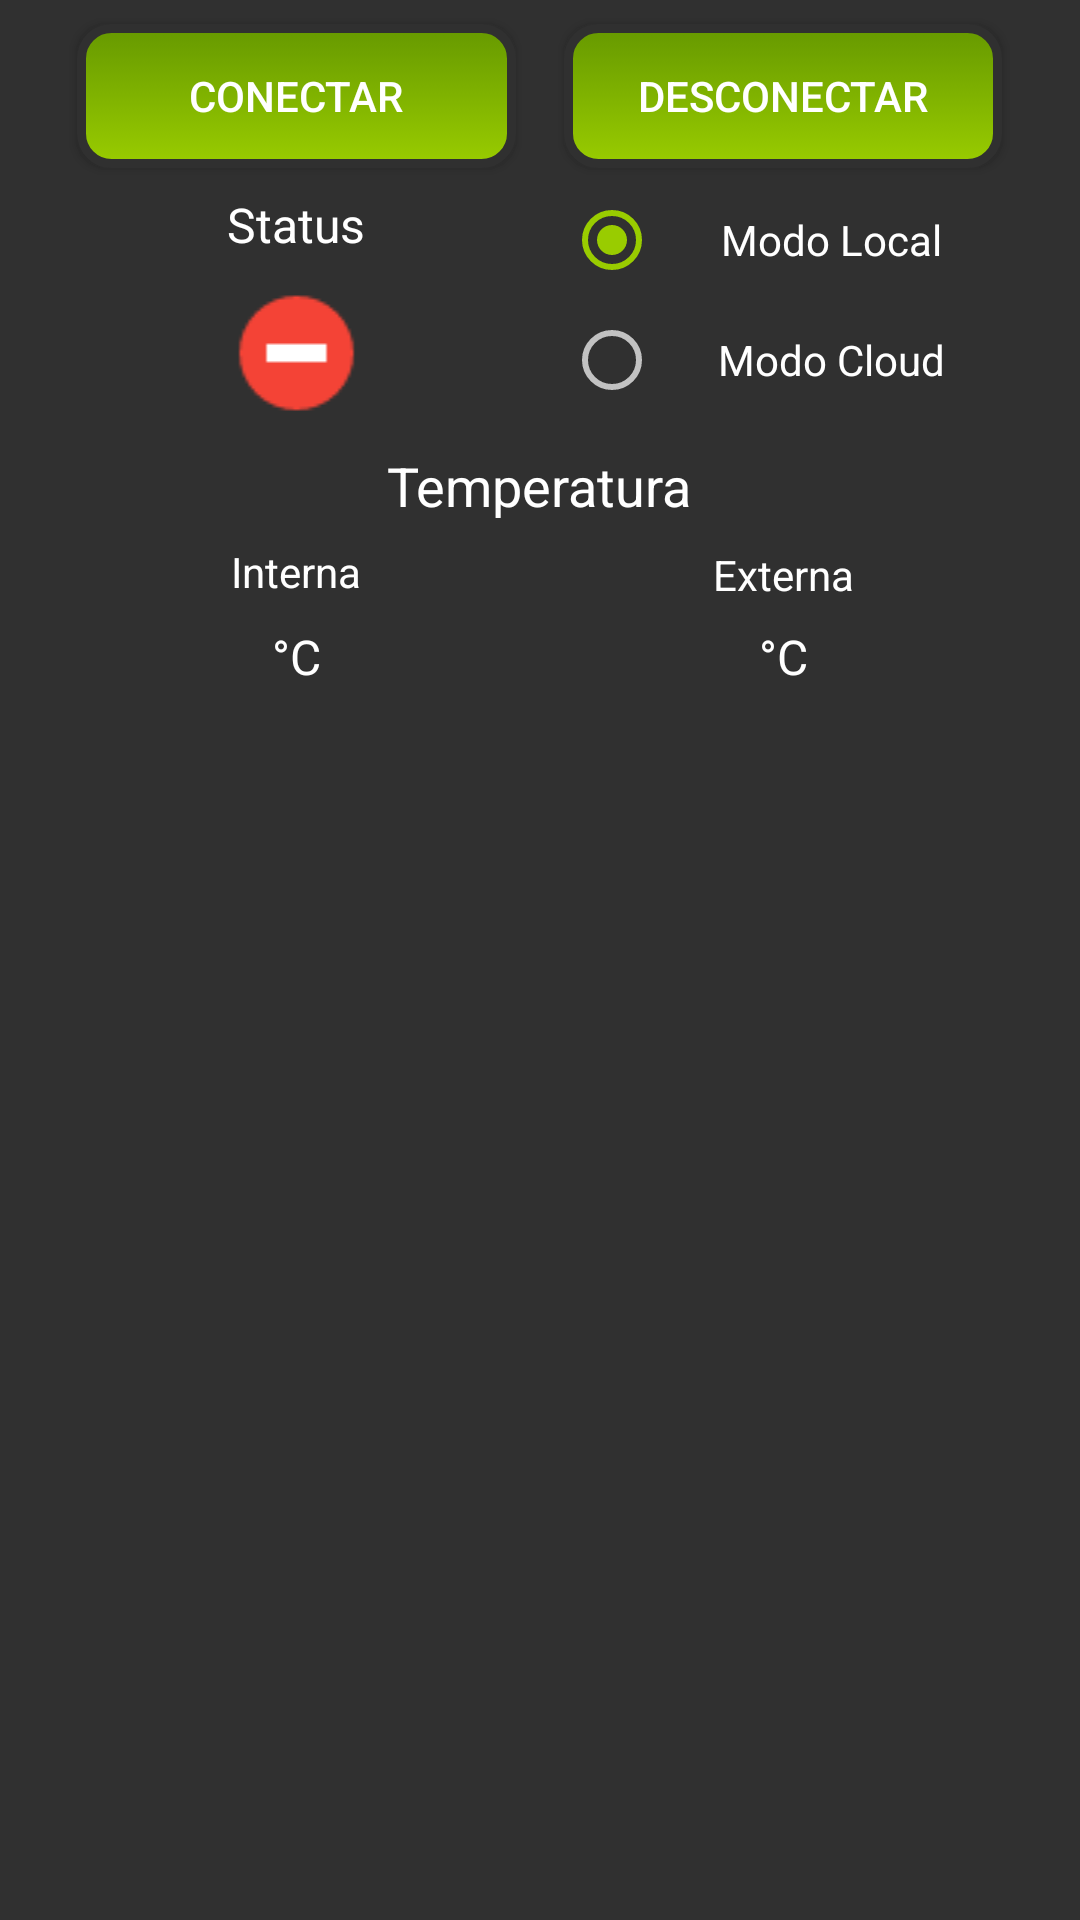

Where to tap for icons on this 1080 × 1920 app screen, as (x=x, y=y):
off: (x=296, y=353)
